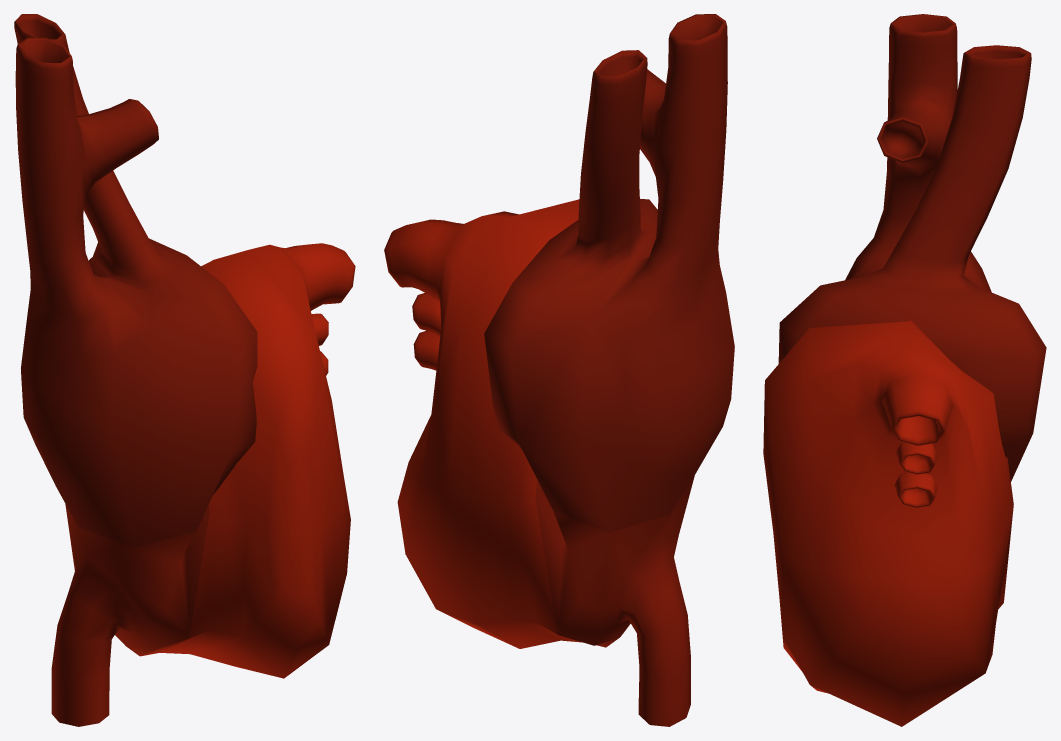
The picture shows the model from 3 angles, left to right: view 1: azimuth 30°, elevation 25°; view 2: azimuth 150°, elevation 25°; view 3: azimuth 270°, elevation 25°; orthographic projection. The views are drawn at different scales.
Visible parts, largest first — view 1: Cube.004; view 2: Cube.004; view 3: Cube.004.
Boxes of the visible parts, x1,y1,x2,y2 form: Cube.004: (14, 14, 355, 726); Cube.004: (384, 14, 734, 726); Cube.004: (763, 14, 1046, 726).
Bounding box in the file's own units: 4.38 × 8.82 × 3.61.
